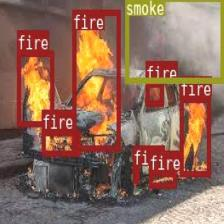fire: (72, 10, 119, 150), (16, 50, 54, 125), (179, 96, 210, 176), (41, 129, 80, 155), (145, 80, 162, 106), (148, 171, 176, 186), (133, 164, 138, 182)
smoke: (125, 0, 223, 81)
